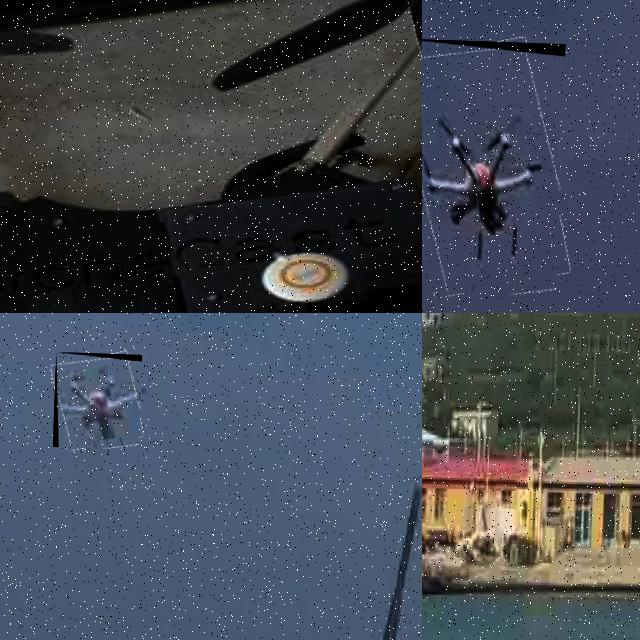drone: (0, 0, 422, 313), (422, 38, 565, 295), (52, 352, 142, 449)
